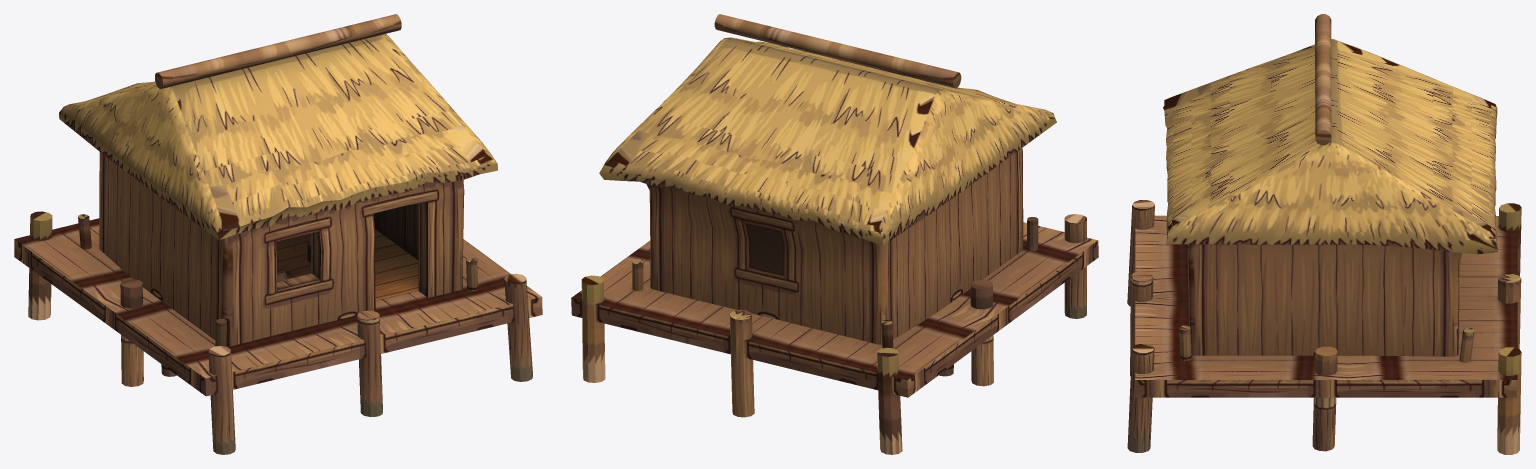
File: cabane_pilotis.glb
3 views of the same model, side by side, from view 1: azimuth 30°, elevation 25°; view 2: azimuth 150°, elevation 25°; view 3: azimuth 270°, elevation 25° (orthographic).
Parts seen in each view (by area): view 1: maison; view 2: maison; view 3: maison.
Boxes of the visible parts, x1=… form: maison: x1=14, y1=14, x2=542, y2=454; maison: x1=571, y1=14, x2=1098, y2=454; maison: x1=1127, y1=14, x2=1521, y2=454.
Bounding box in the file's own units: 3.42 × 2.95 × 3.46.
1 material, 1 textured.
